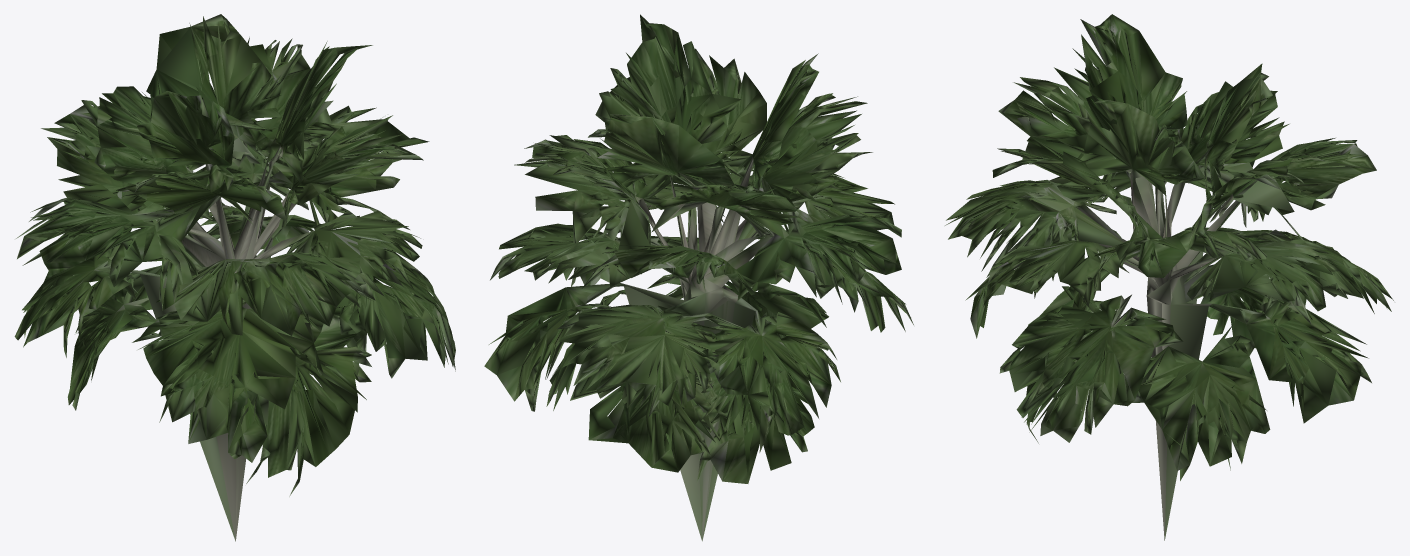
The model's file is dust_palm_3.fbx.
The picture shows the model from 3 angles, left to right: view 1: azimuth 30°, elevation 25°; view 2: azimuth 150°, elevation 25°; view 3: azimuth 270°, elevation 25°; orthographic projection. The views are drawn at different scales.
Parts seen in each view (by area): view 1: dust_palm_3.001; view 2: dust_palm_3.001; view 3: dust_palm_3.001.
Part boxes in pixels (x1,y1,x2,y2): dust_palm_3.001: [14, 14, 455, 541]; dust_palm_3.001: [484, 14, 913, 541]; dust_palm_3.001: [945, 14, 1393, 540].
Size of the model in its own units: 60820 by 62617 by 74452.
